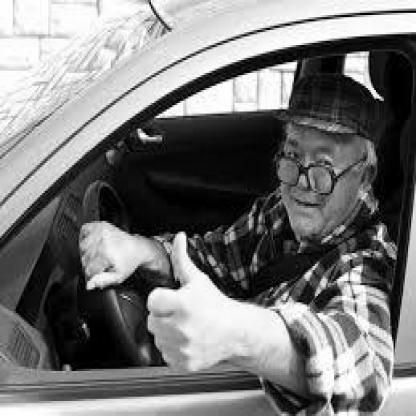seatbelt: (233, 66, 361, 331)
